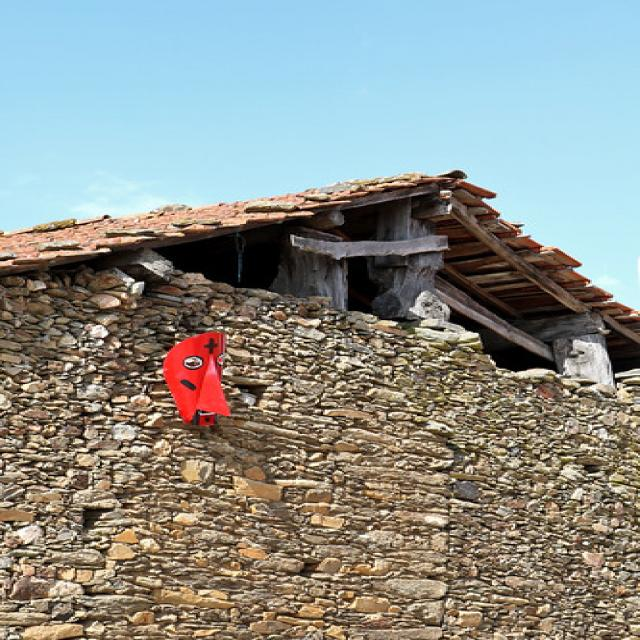Normal_building: (4, 166, 640, 624)
